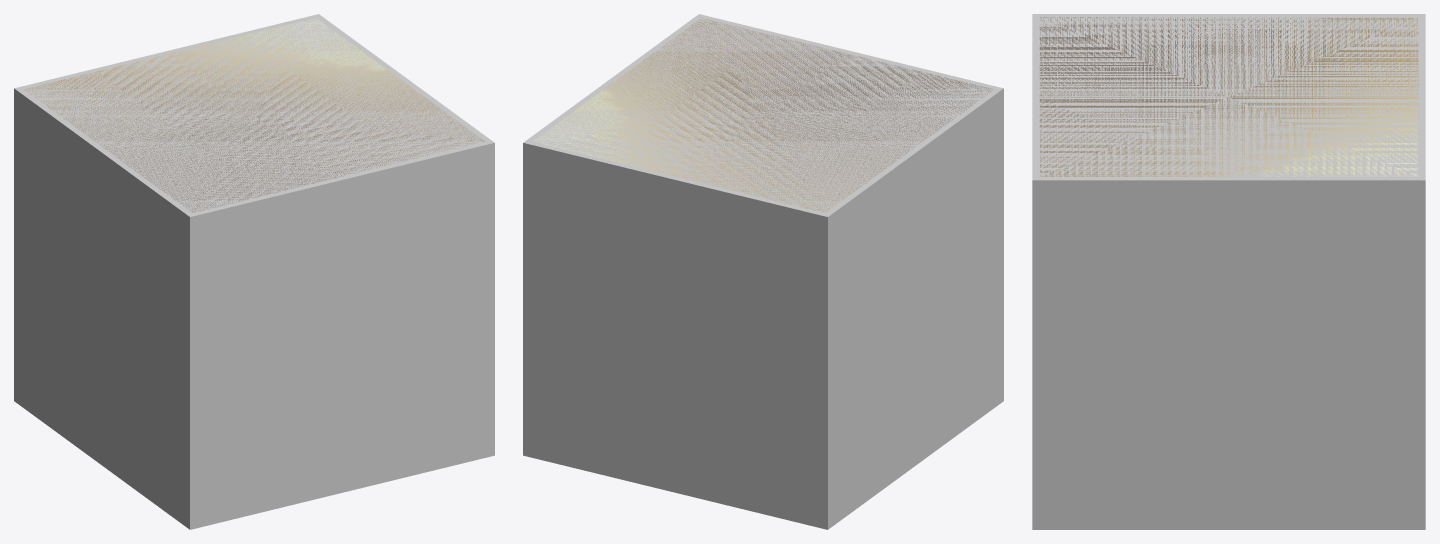
File: skyboxold2.fbx
3 renders of one model, left to right at view 1: azimuth 30°, elevation 25°; view 2: azimuth 150°, elevation 25°; view 3: azimuth 270°, elevation 25°, orthographic. The views are drawn at different scales.
Visible parts, largest first — view 1: Model; view 2: Model; view 3: Model.
Boxes of the visible parts, x1=… form: Model: x1=14, y1=14, x2=494, y2=529; Model: x1=523, y1=14, x2=1003, y2=529; Model: x1=1032, y1=14, x2=1425, y2=529.
Bounding box in the file's own units: 522 × 512 × 522.
Materials: 7 (6 with a texture image).
